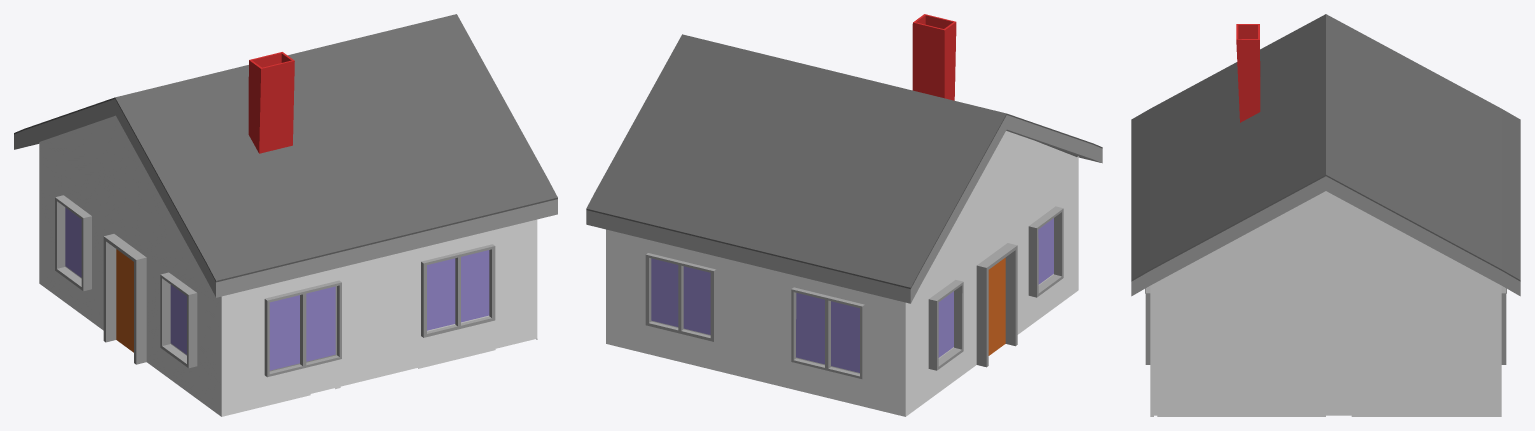
The model's file is House.fbx.
3 views of the same model, side by side, from view 1: azimuth 30°, elevation 25°; view 2: azimuth 150°, elevation 25°; view 3: azimuth 270°, elevation 25° (orthographic). The views are drawn at different scales.
Visible parts, largest first — view 1: House; view 2: House; view 3: House.
Part boxes in pixels (left/top/right/bottom): House: left=14, top=14, right=557, bottom=416; House: left=586, top=14, right=1102, bottom=416; House: left=1131, top=14, right=1520, bottom=416.
Bounding box in the file's own units: 776 × 758 × 625.
